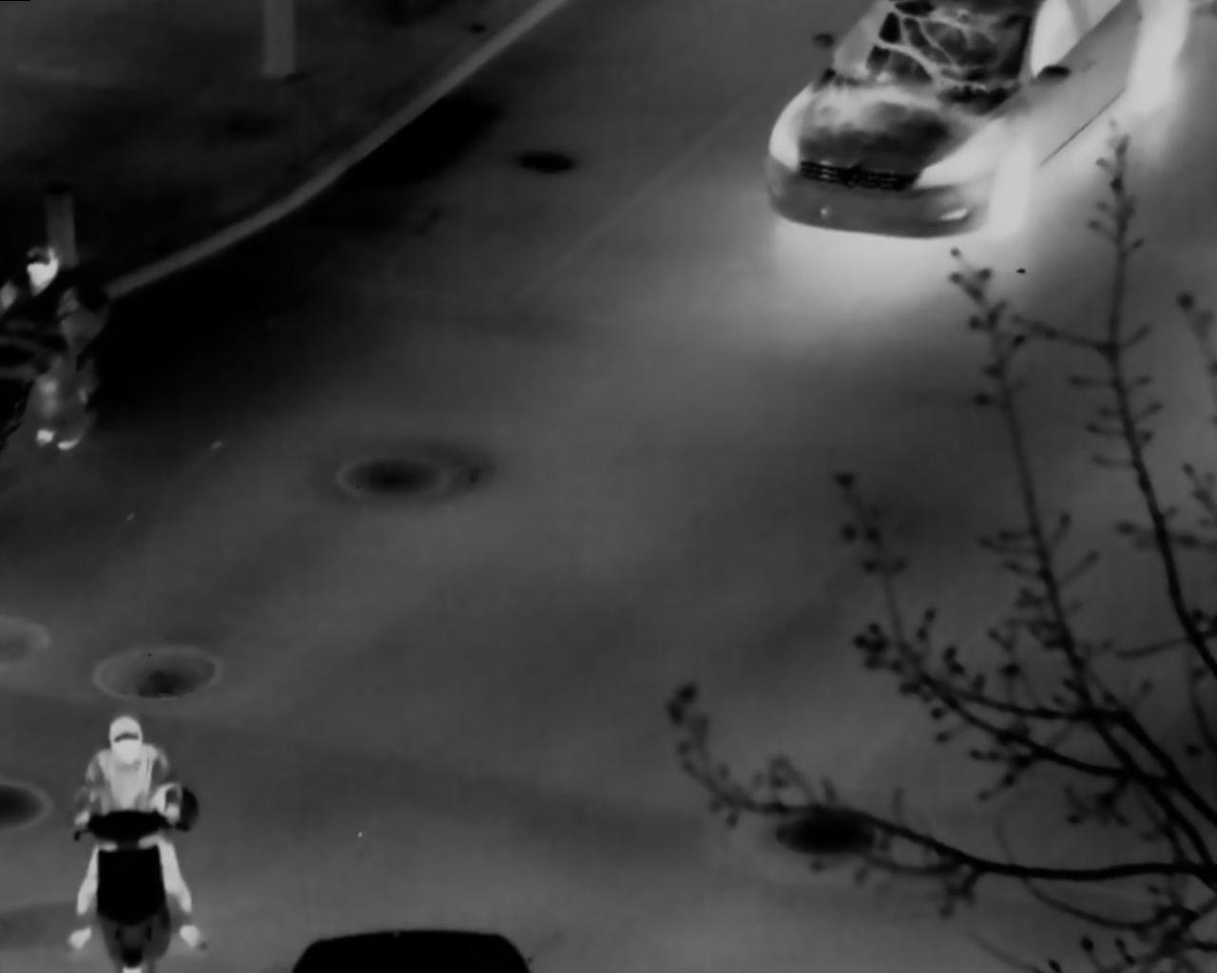person: (69, 719, 199, 933), (15, 238, 70, 437)
